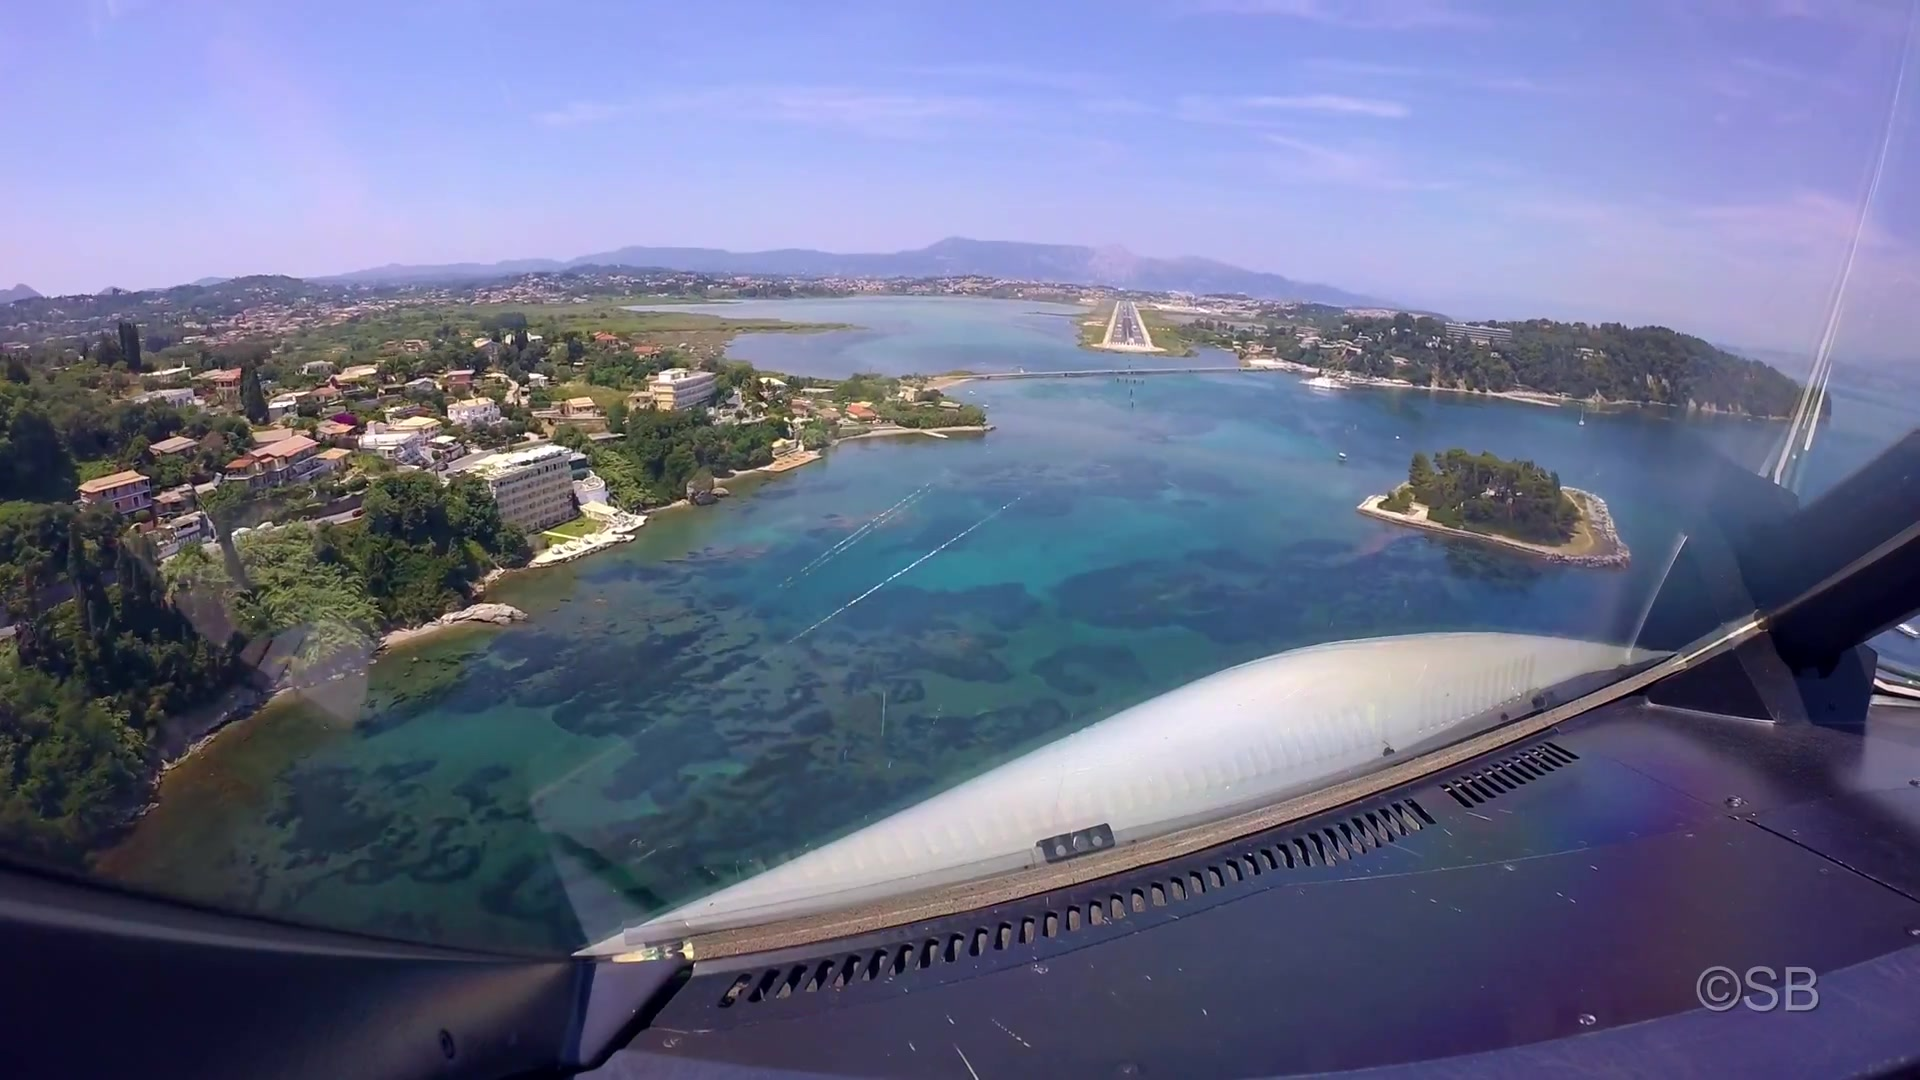entrance: (1106, 340, 1151, 347)
runway: (1102, 301, 1153, 348)
